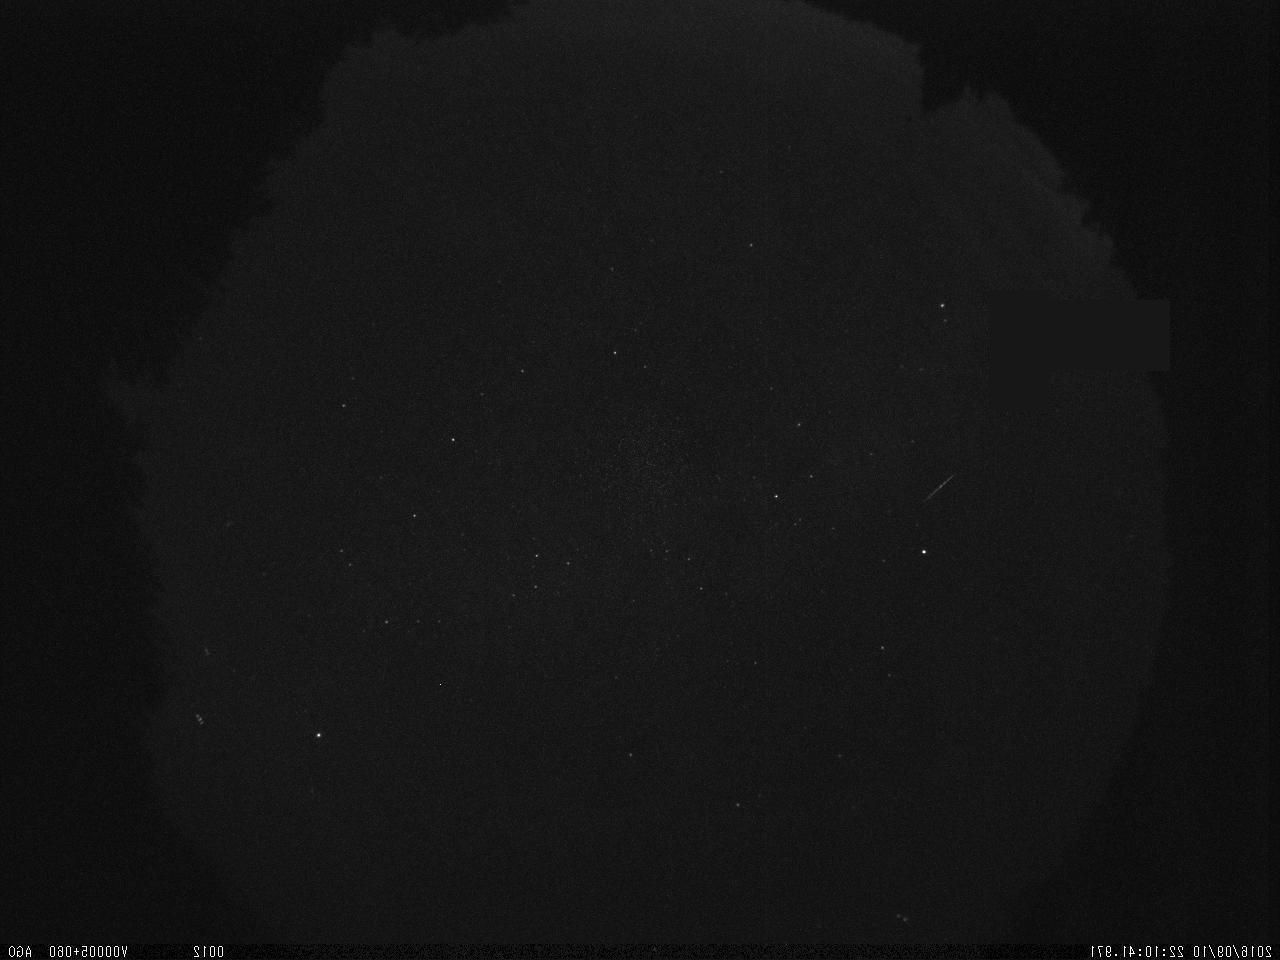meteor: (916, 467, 965, 510)
